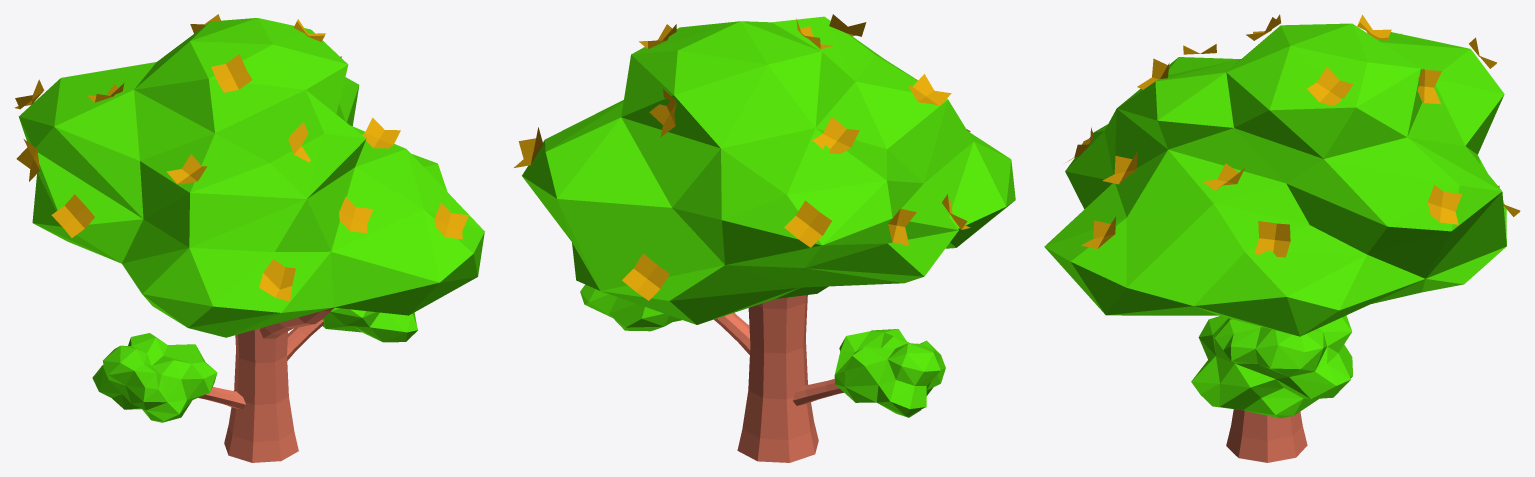
Rendered from TulipPoplar.fbx.
The picture shows the model from 3 angles, left to right: view 1: azimuth 30°, elevation 25°; view 2: azimuth 150°, elevation 25°; view 3: azimuth 270°, elevation 25°; orthographic projection. The views are drawn at different scales.
Visible parts, largest first — view 1: Cylinder.001; view 2: Cylinder.001; view 3: Cylinder.001.
Part boxes in pixels (<box>): Cylinder.001: <box>14,14,484,462</box>; Cylinder.001: <box>514,14,1015,462</box>; Cylinder.001: <box>1044,14,1520,462</box>.
Bounding box in the file's own units: 163 × 158 × 158.
